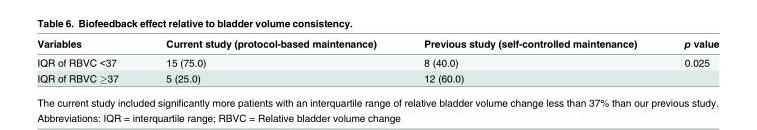table: (36, 36, 718, 91)
table column: (399, 36, 660, 91), (141, 36, 399, 91), (36, 36, 141, 91), (660, 36, 718, 91)
table column header: (36, 36, 718, 52)
table row: (36, 70, 718, 91), (36, 52, 718, 70), (36, 36, 718, 52)
